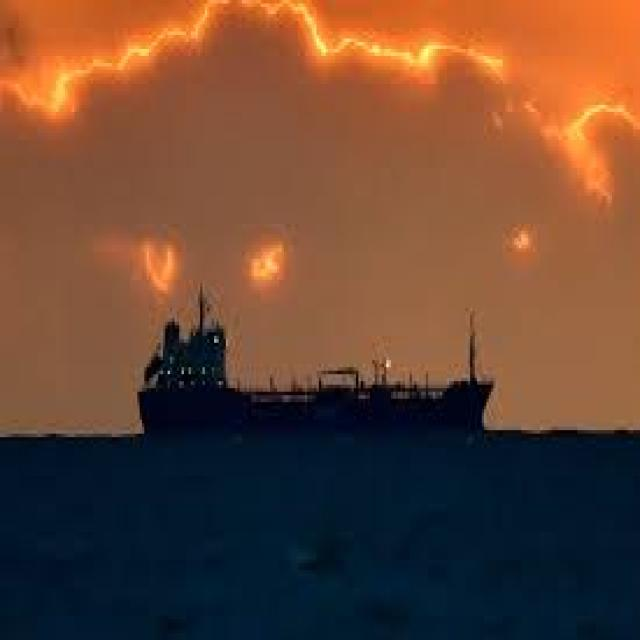cargoship: (139, 280, 494, 443)
